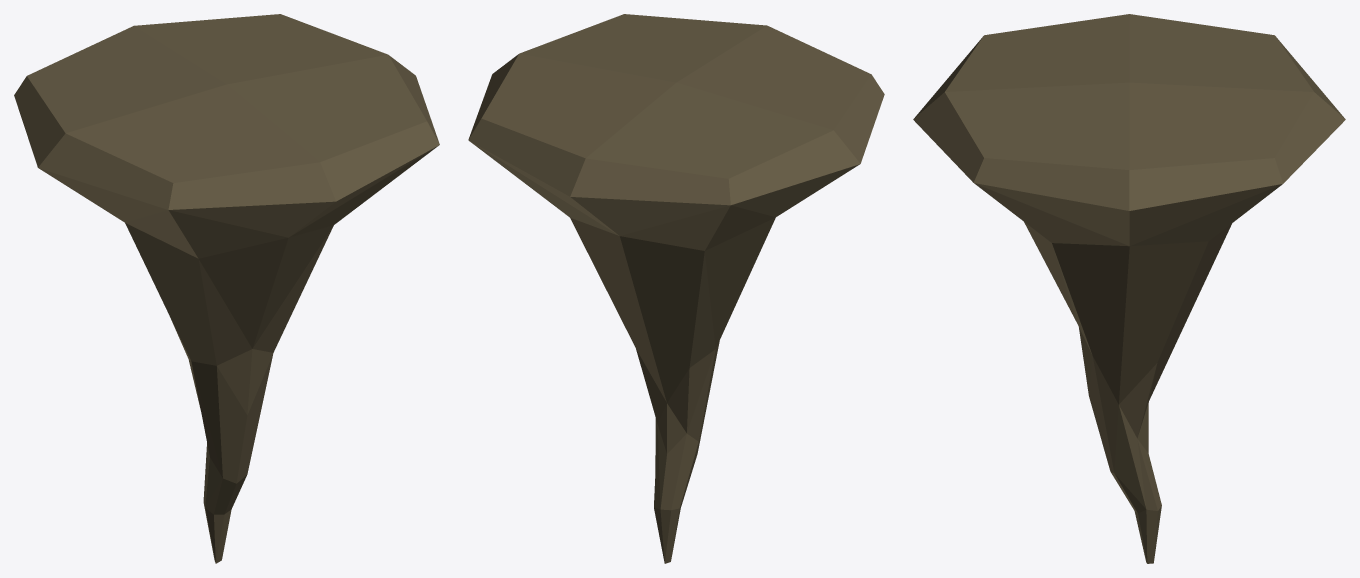
File: 1stologmit.fbx
3 renders of one model, left to right at view 1: azimuth 30°, elevation 25°; view 2: azimuth 150°, elevation 25°; view 3: azimuth 270°, elevation 25°, orthographic. The views are drawn at different scales.
Visible parts, largest first — view 1: Куб.001; view 2: Куб.001; view 3: Куб.001.
Boxes of the visible parts, x1=… form: Куб.001: x1=14, y1=14, x2=439, y2=563; Куб.001: x1=468, y1=14, x2=884, y2=563; Куб.001: x1=913, y1=14, x2=1345, y2=563.
Size of the model in its own units: 215 by 264 by 215.
